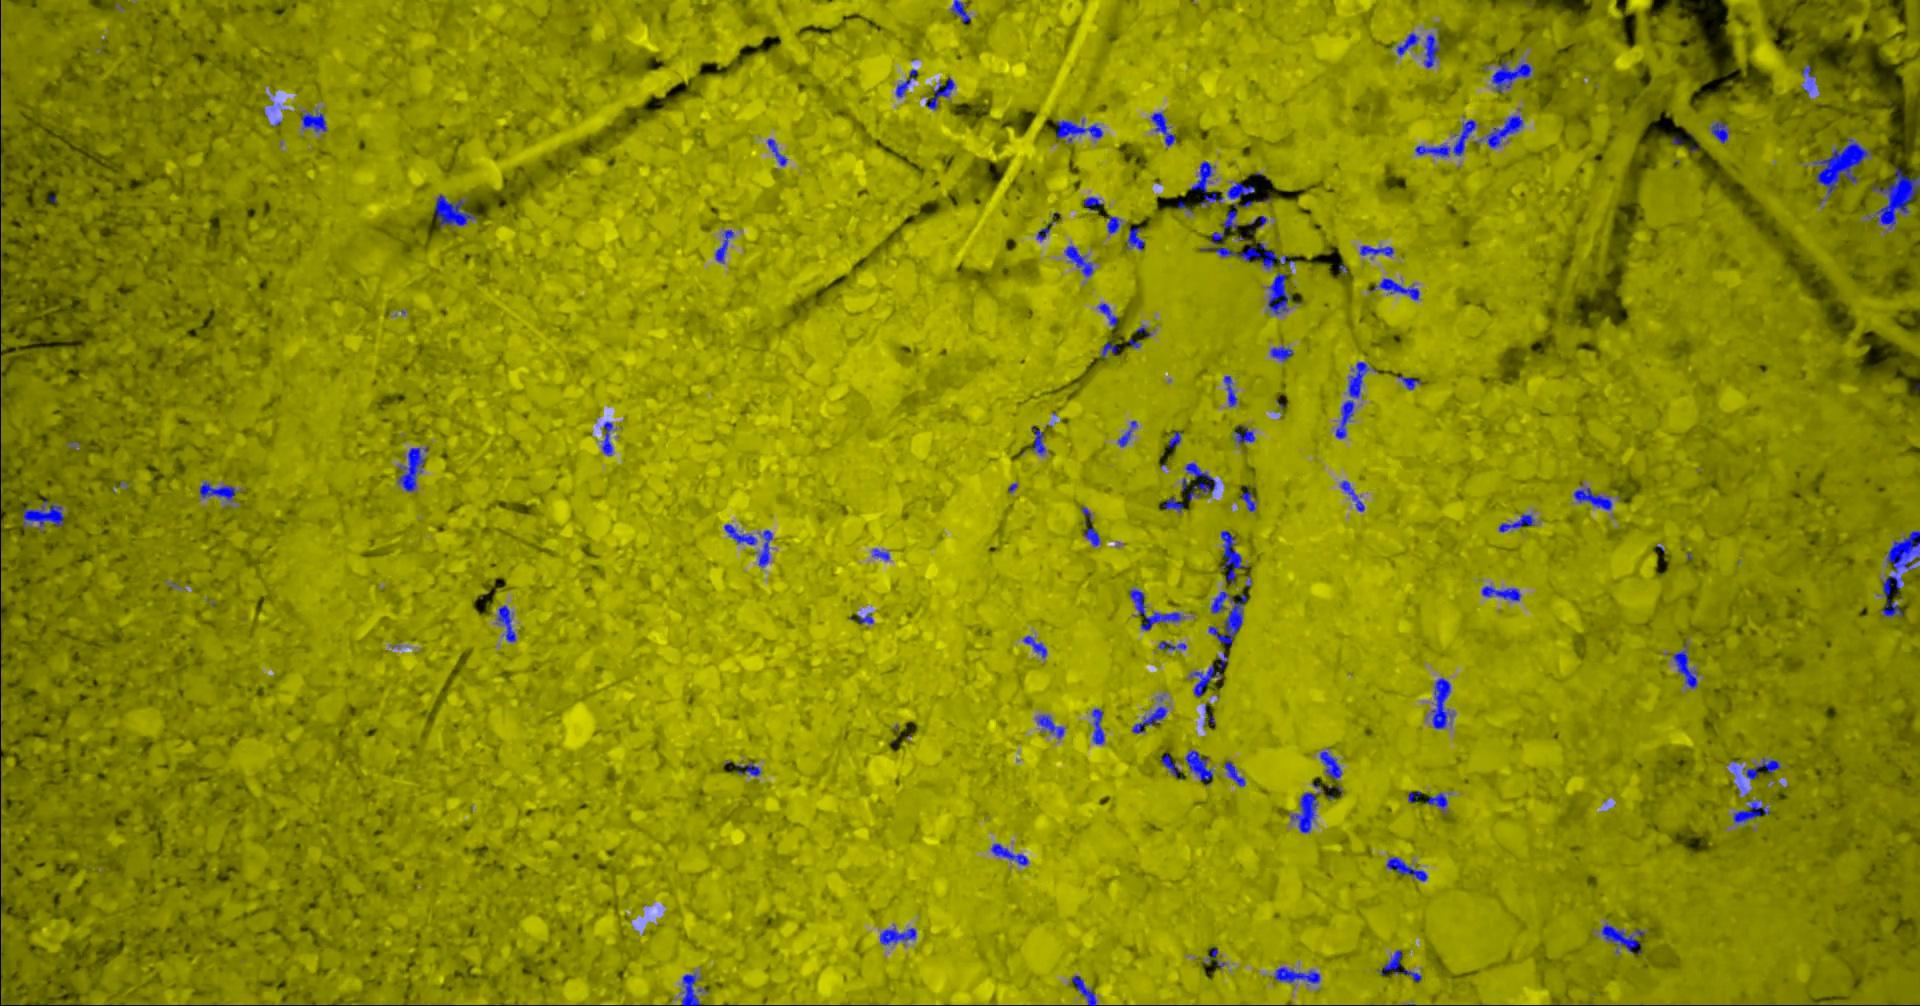ant: (1337, 361, 1378, 438), (1416, 119, 1478, 156), (1130, 588, 1183, 630), (1217, 241, 1295, 269), (1210, 591, 1248, 644), (1211, 199, 1255, 243), (1477, 114, 1524, 149), (1222, 530, 1250, 584), (399, 446, 430, 492), (1192, 160, 1224, 205), (436, 194, 477, 227), (1382, 949, 1423, 981), (1603, 923, 1646, 953), (1493, 61, 1533, 91), (1186, 462, 1218, 499), (1674, 643, 1699, 688), (1371, 277, 1421, 300), (1291, 793, 1319, 832), (1432, 677, 1454, 728), (24, 499, 65, 526), (1191, 663, 1223, 696), (1388, 856, 1429, 882), (1057, 119, 1103, 141), (1269, 272, 1293, 314), (1133, 706, 1168, 733), (927, 77, 956, 109), (1575, 486, 1613, 511), (1152, 112, 1178, 146), (1187, 749, 1214, 784), (1065, 245, 1095, 276), (1735, 799, 1771, 822), (992, 843, 1030, 865), (1275, 967, 1321, 984), (683, 972, 707, 1005), (1341, 480, 1366, 511), (1073, 976, 1098, 1005), (1747, 757, 1782, 779), (201, 481, 237, 500), (1500, 513, 1537, 532), (1037, 714, 1065, 738), (725, 523, 758, 544), (499, 605, 517, 641), (881, 926, 918, 944), (716, 229, 735, 263), (897, 69, 919, 97), (1321, 751, 1343, 779), (758, 528, 775, 567), (1162, 753, 1185, 779), (1023, 635, 1048, 658), (1483, 586, 1523, 600), (302, 109, 328, 131), (1225, 761, 1247, 786), (1425, 34, 1441, 67), (1119, 420, 1139, 446), (770, 138, 789, 165), (1398, 32, 1420, 55), (1229, 180, 1256, 198), (1098, 304, 1119, 326), (1710, 119, 1730, 144), (1093, 708, 1106, 743), (1032, 426, 1048, 453), (1242, 485, 1258, 511), (952, 0, 971, 22), (1804, 64, 1818, 93), (1128, 226, 1145, 249), (1225, 375, 1238, 406), (603, 420, 615, 455), (1236, 426, 1256, 445), (735, 761, 762, 775), (1399, 373, 1423, 389), (1429, 793, 1449, 810), (1361, 245, 1396, 255), (1084, 526, 1101, 546), (1272, 345, 1294, 359), (1084, 196, 1105, 210), (1164, 497, 1185, 511), (1161, 640, 1189, 650), (1102, 340, 1119, 357), (1109, 213, 1123, 232), (1170, 431, 1183, 448), (1250, 215, 1269, 227), (1037, 224, 1051, 240), (874, 547, 891, 560), (858, 614, 875, 622), (1410, 790, 1422, 801)
